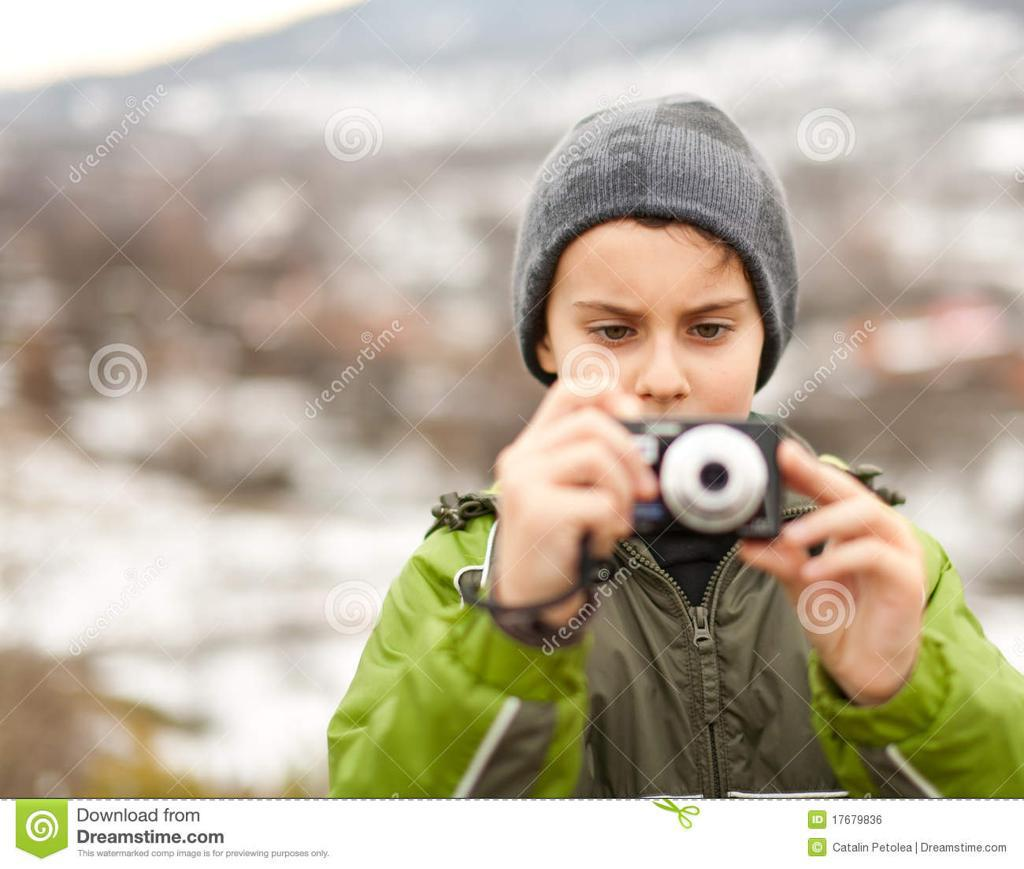face: (557, 213, 755, 459)
